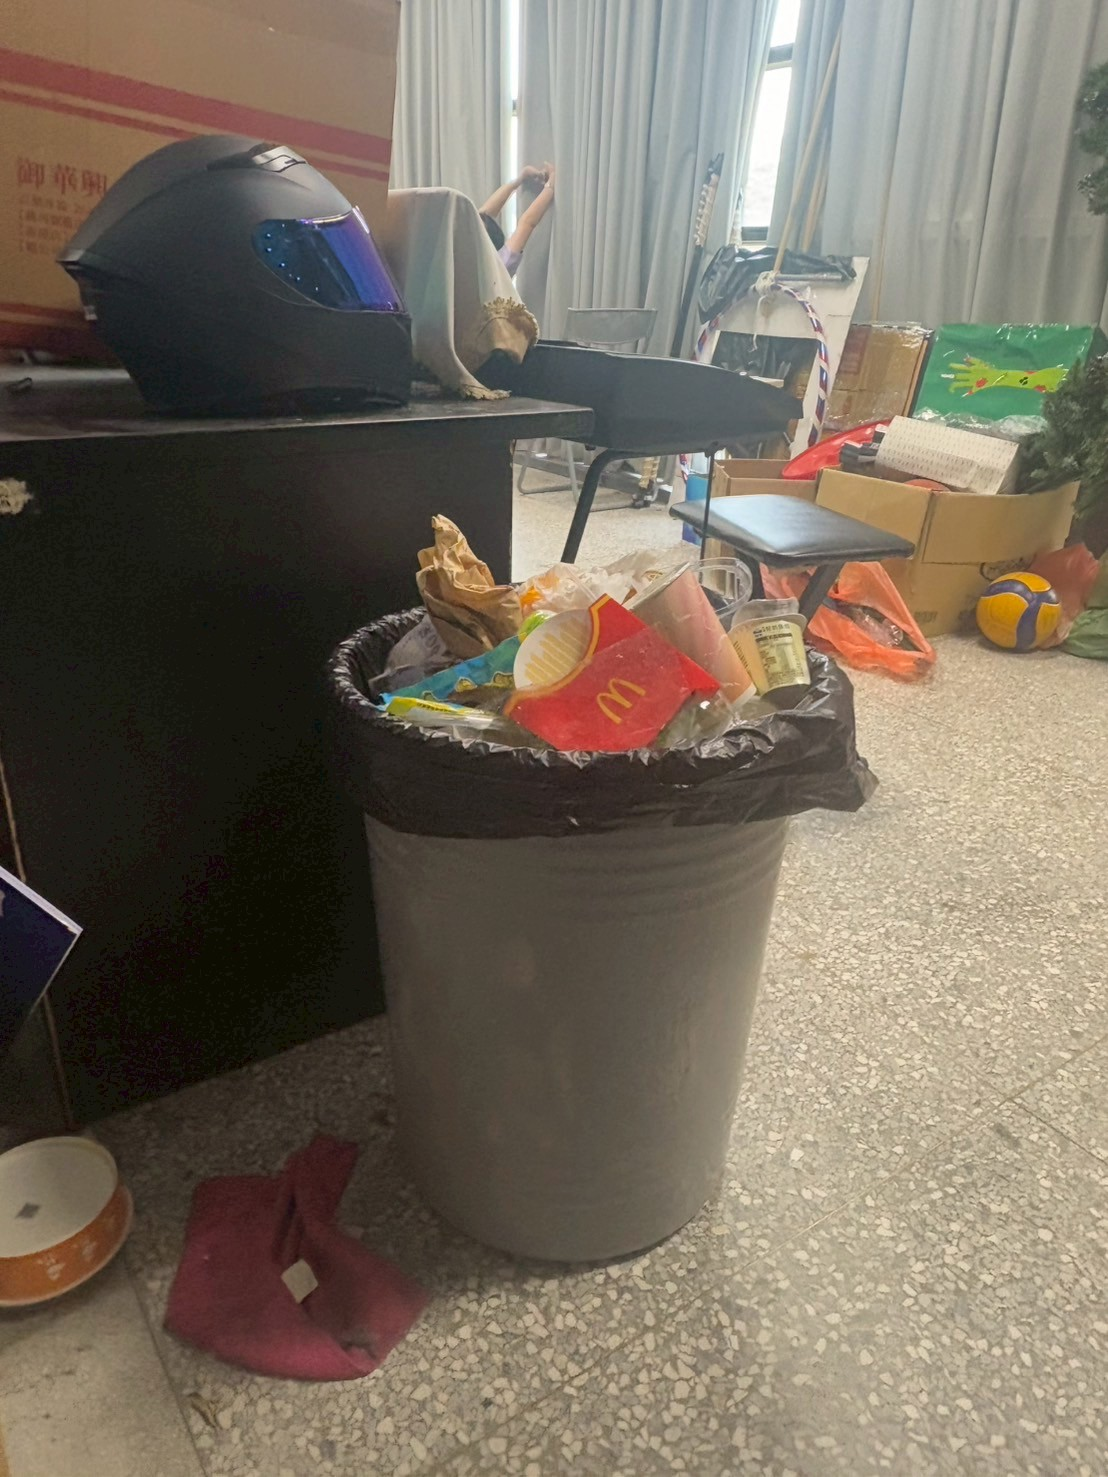overflow_bin: (319, 503, 887, 1304)
